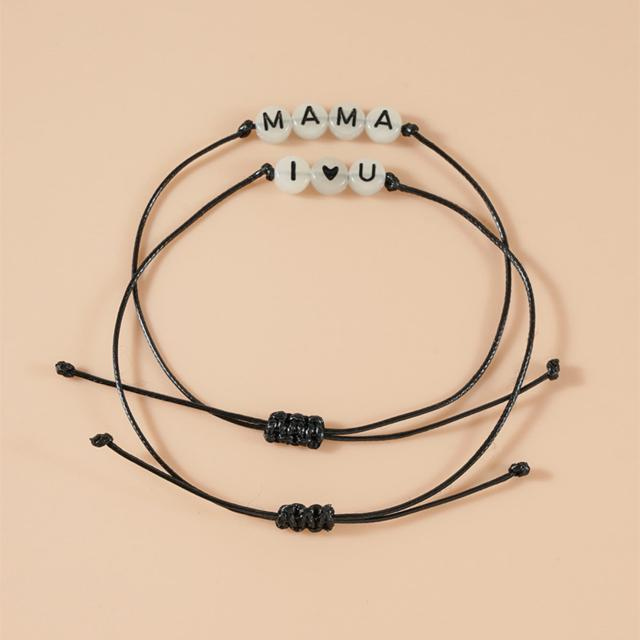bracelet: (5, 47, 610, 573)
